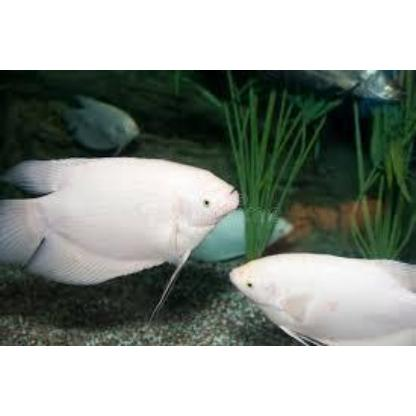gurame: (1, 158, 243, 282), (223, 249, 415, 345)
